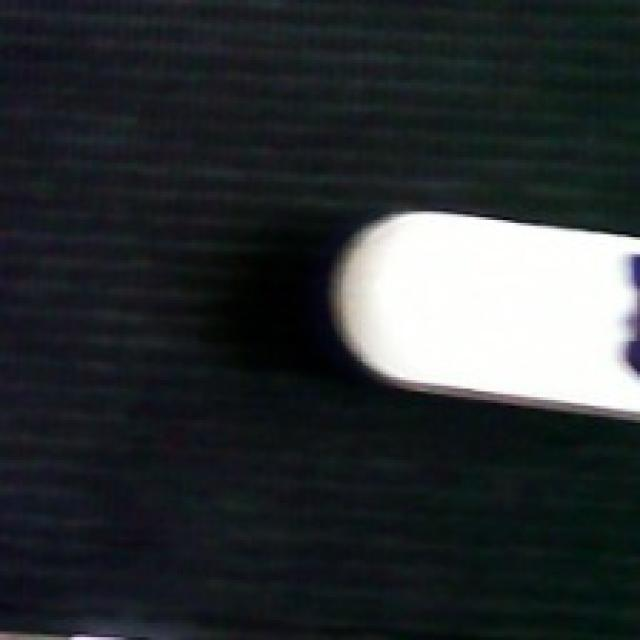defected: (323, 205, 640, 417)
